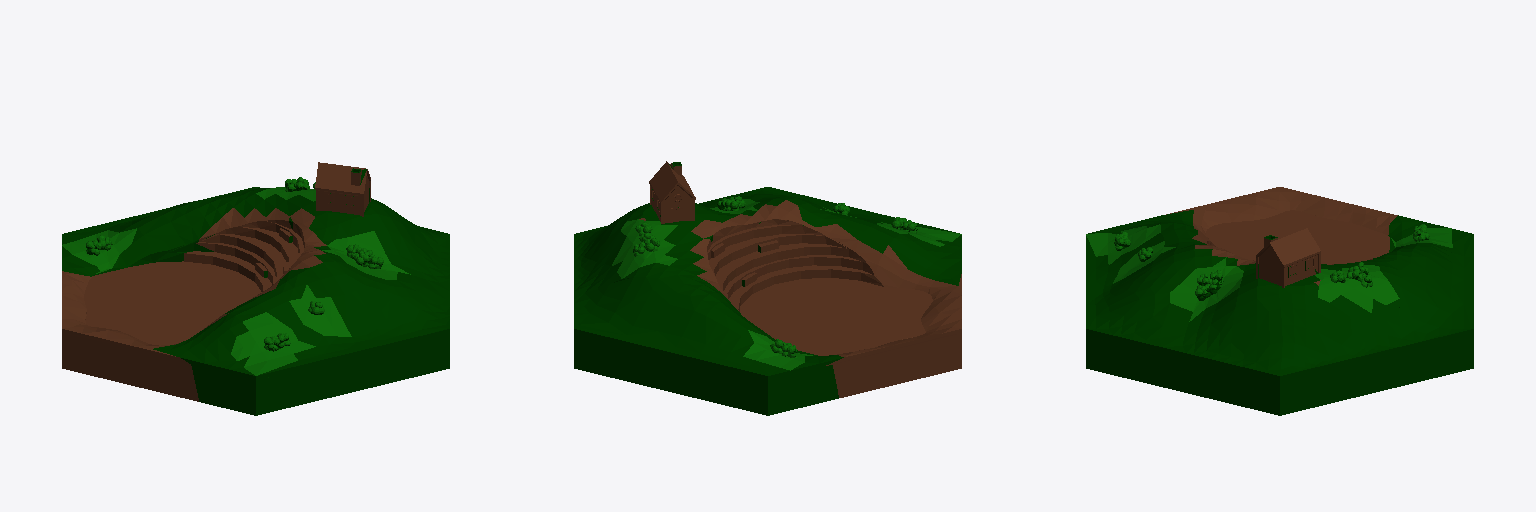
Rendered from brick.obj.
3 views of the same model, side by side, from view 1: azimuth 30°, elevation 25°; view 2: azimuth 150°, elevation 25°; view 3: azimuth 270°, elevation 25° (orthographic).
Parts seen in each view (by area): view 1: brick_v1; view 2: brick_v1; view 3: brick_v1.
Part boxes in pixels (left/top/right/bottom): brick_v1: left=62, top=162, right=449, bottom=415; brick_v1: left=574, top=161, right=961, bottom=415; brick_v1: left=1086, top=187, right=1473, bottom=415.
Bounding box in the file's own units: 73.33 × 23.5 × 63.5.